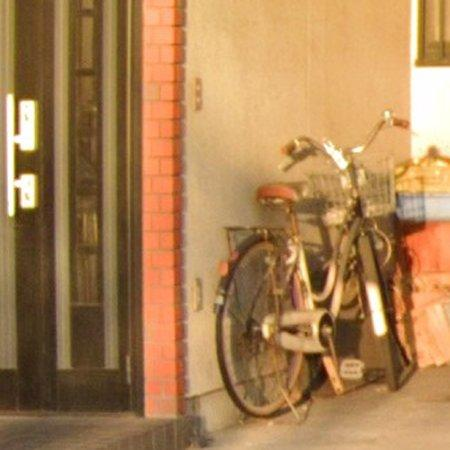bicycles: (216, 111, 417, 418)
